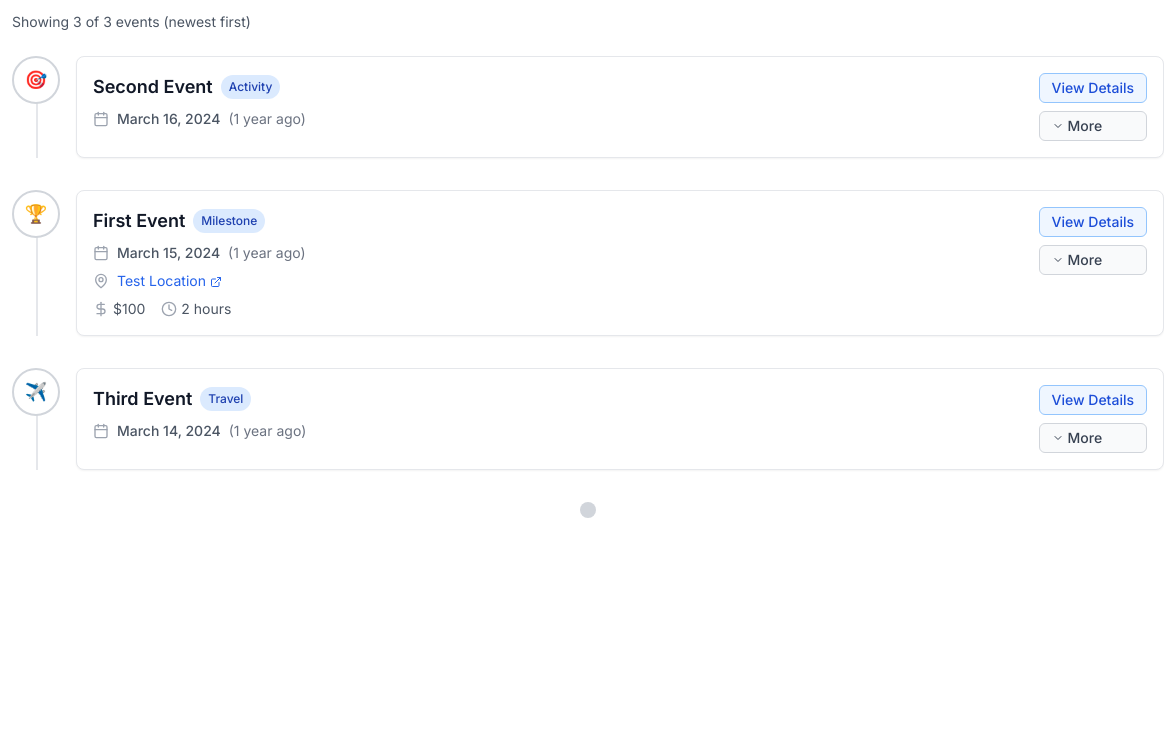
Test: Timeline Component › expands and collapses event details
The width and height of the screenshot is (1164, 732).
Expected: the text "This is the second event" is not shown
Note: Click to expand
Step 1. Click the button "More" in the row of "March 16, 2024" → (1093, 126), box x1=1038 y1=111 x2=1147 y2=141
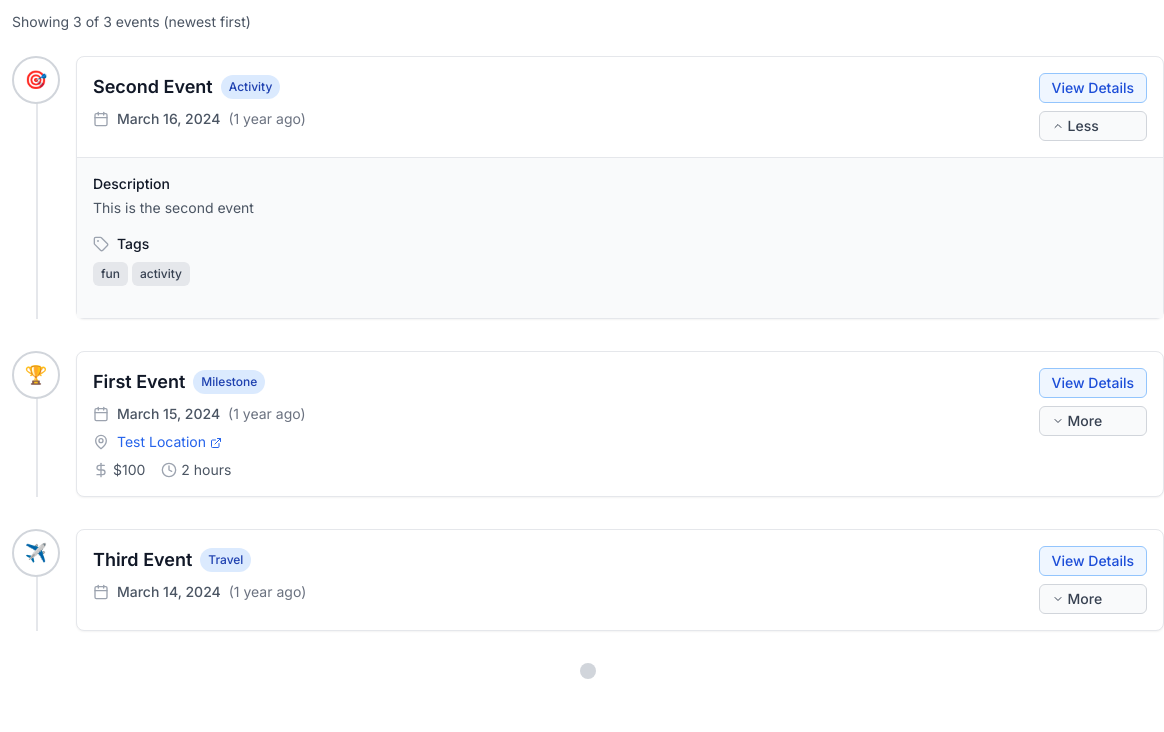
Result: the text "This is the second event" is shown at x1=93 y1=199 x2=254 y2=216
Note: Click to collapse
Step 2. Click the button "Less" → (1093, 126), box x1=1038 y1=111 x2=1147 y2=141
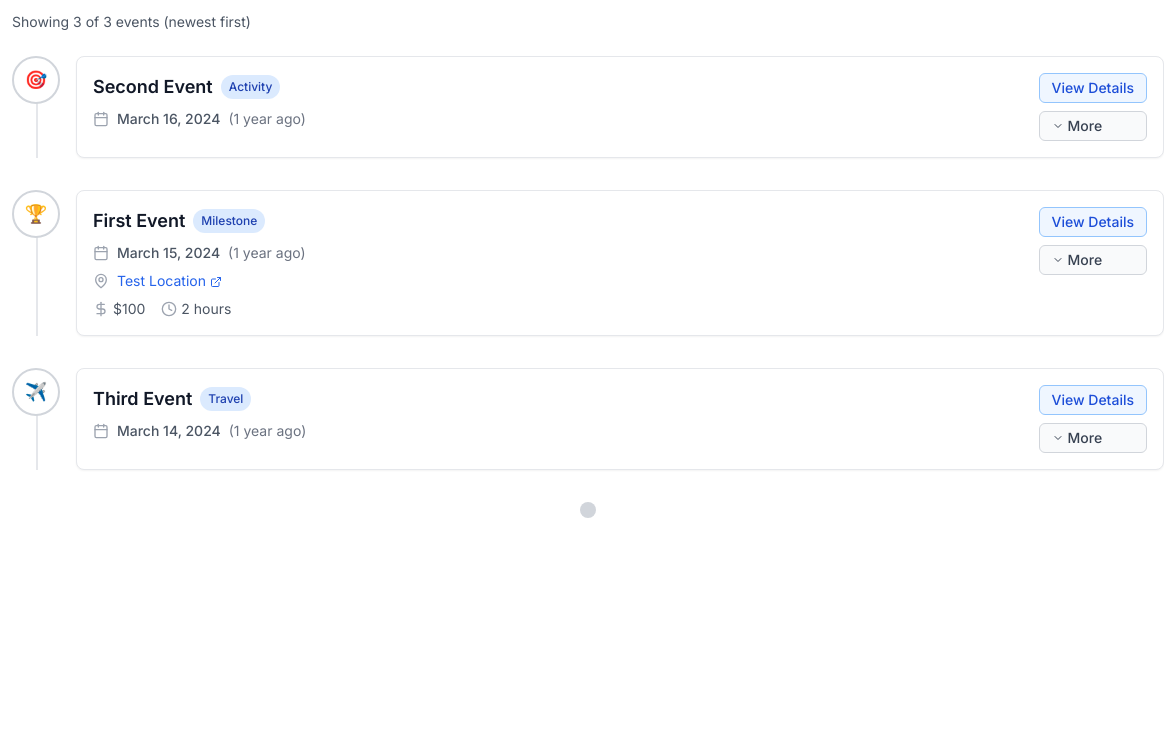
Result: the text "This is the second event" is gone
